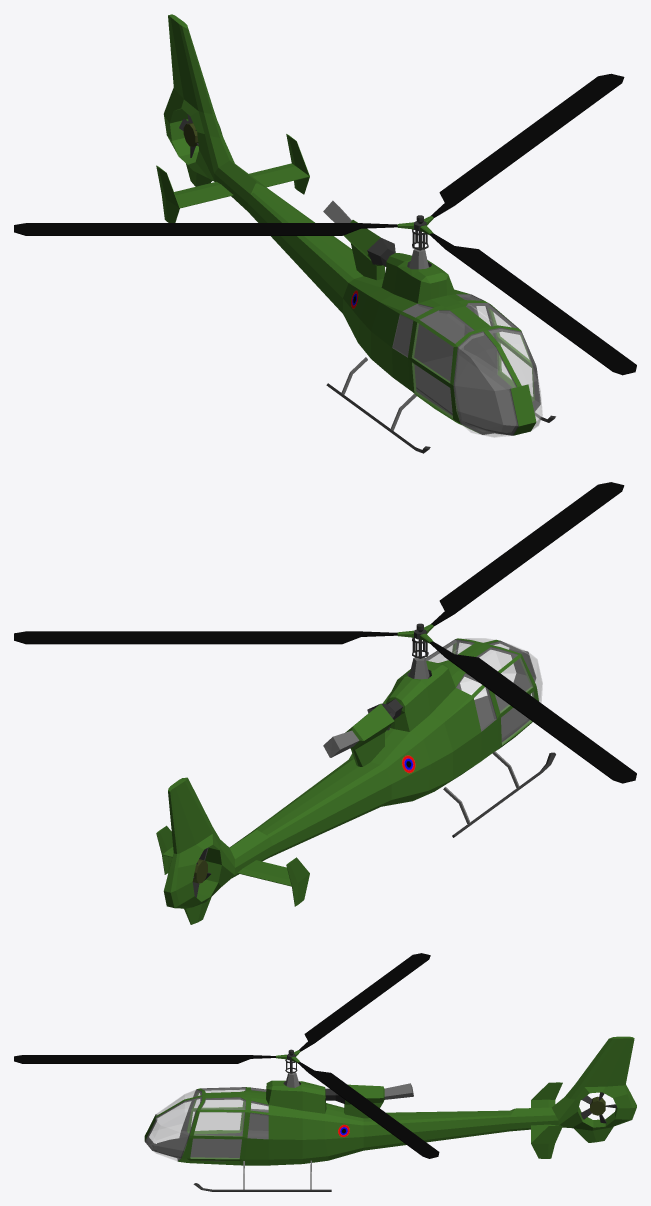
3 views of the same model, one above another, from view 1: azimuth 30°, elevation 25°; view 2: azimuth 150°, elevation 25°; view 3: azimuth 270°, elevation 25° (orthographic). The views are drawn at different scales.
Parts seen in each view (by area): view 1: Plane.018, Circle.002, Plane.020, Plane.021, Plane.019, Plane.023; view 2: Plane.018, Circle.002, Plane.019, Plane.021, Plane.020; view 3: Plane.018, Circle.002, Plane.023, Plane.020, Plane.021, Plane.019, Plane.022.
Part boxes in pixels (box(x1,y1,x2,y2)): Plane.018: box(156, 14, 555, 453); Circle.002: box(14, 73, 636, 375); Plane.020: box(454, 328, 542, 437); Plane.021: box(410, 321, 456, 422); Plane.019: box(392, 294, 516, 357); Plane.023: box(488, 304, 534, 401); Plane.018: box(156, 638, 555, 924); Circle.002: box(14, 482, 636, 783); Plane.019: box(426, 639, 517, 731); Plane.021: box(492, 655, 536, 748); Plane.020: box(458, 638, 542, 702); Plane.018: box(144, 1036, 636, 1191); Circle.002: box(14, 953, 439, 1158); Plane.023: box(187, 1110, 247, 1160); Plane.020: box(145, 1089, 201, 1161); Plane.021: box(187, 1090, 245, 1134); Plane.019: box(201, 1087, 268, 1138); Plane.022: box(580, 1092, 616, 1123).
Bounding box in the file's own units: 1012 × 307 × 1299.
